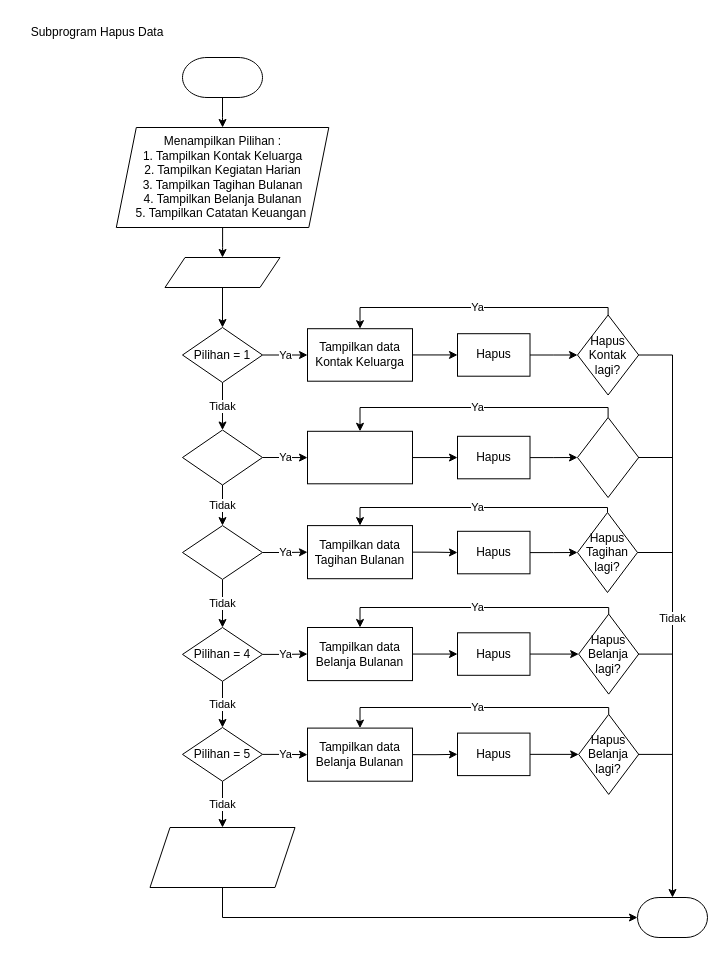
Image size: 725x955. Some labels were removed from this diagram. Here are the shapes that lost their labels. From the top down, the box of each, then its label:
(182, 56, 262, 98): Start
(164, 256, 280, 288): Input Pilihan
(182, 429, 262, 485): Pilihan = 2
(306, 430, 412, 484): Tampilkan data Kegiatan Harian
(576, 416, 639, 498): Hapus Kegiatan lagi?
(182, 525, 262, 579): Pilihan = 3
(149, 826, 295, 888): Menampilkan "Pilihan tidak valid"
(636, 896, 708, 938): End
